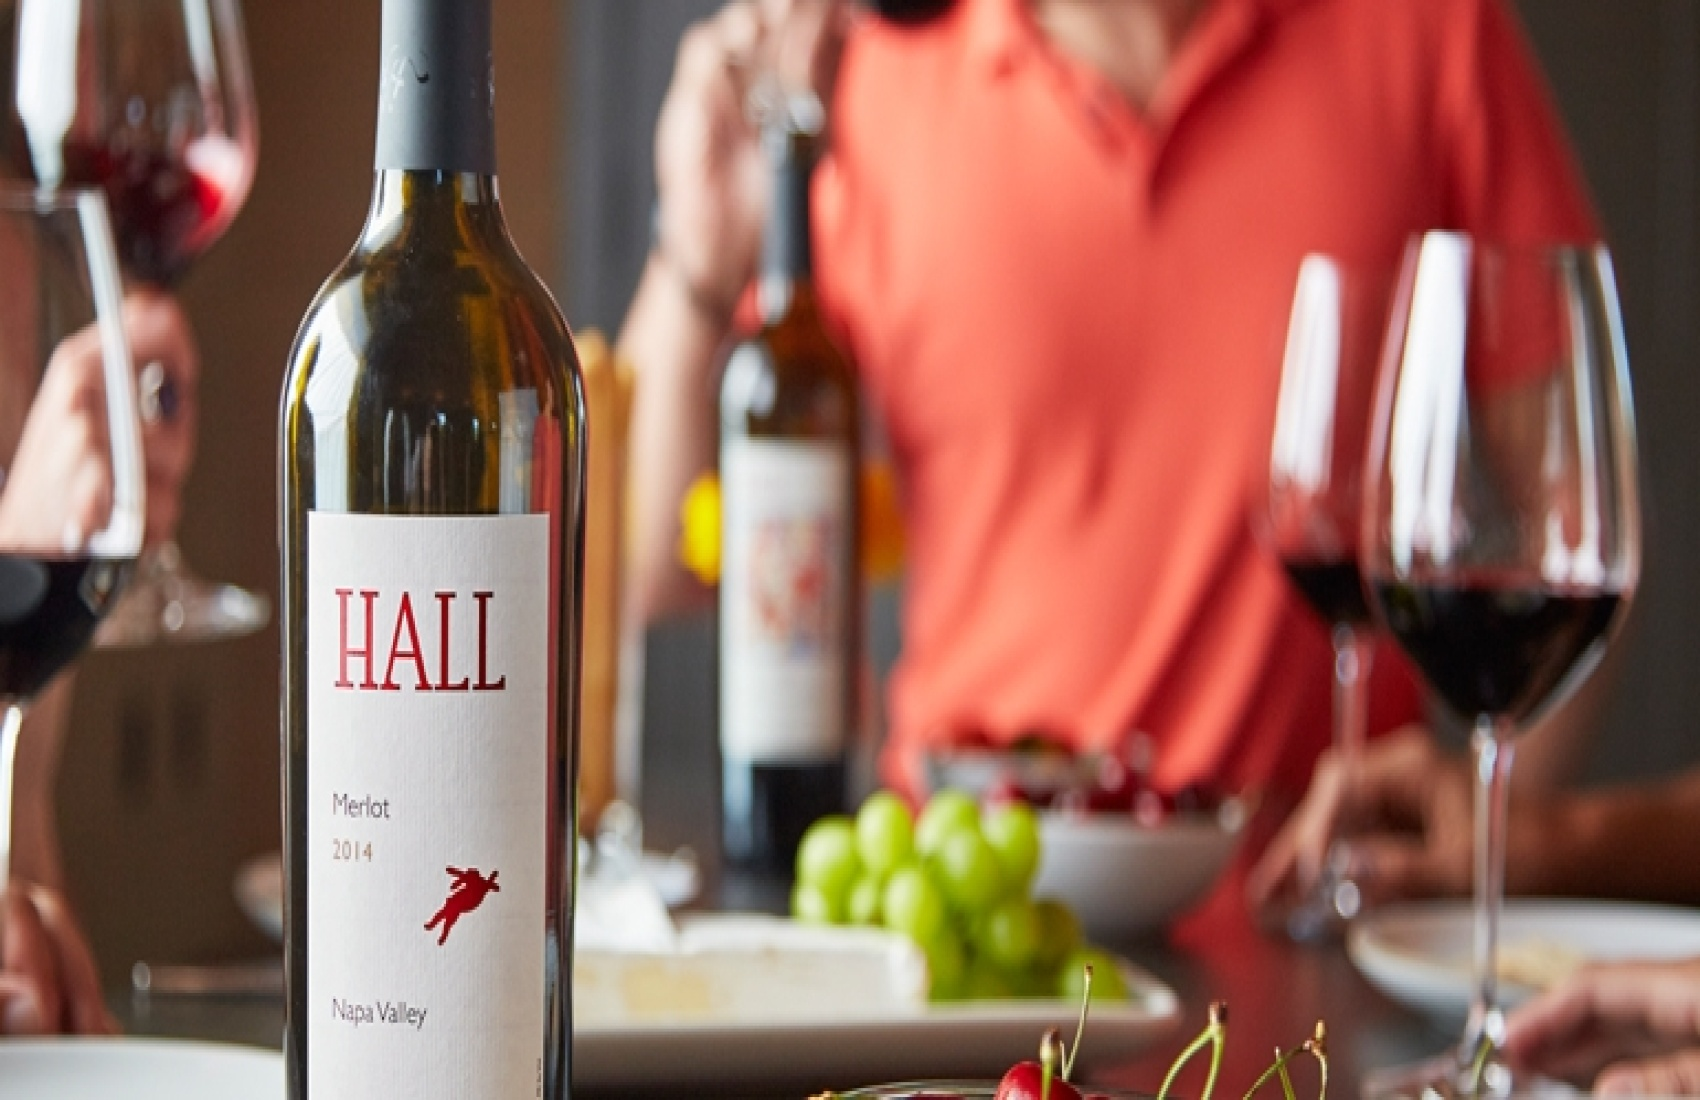wine: (290, 1, 576, 1096)
